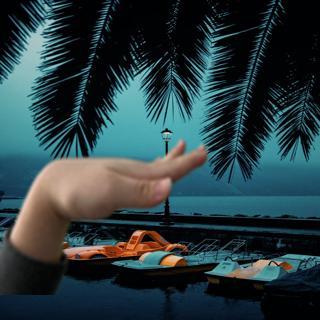Wait: (28, 132, 212, 233)
